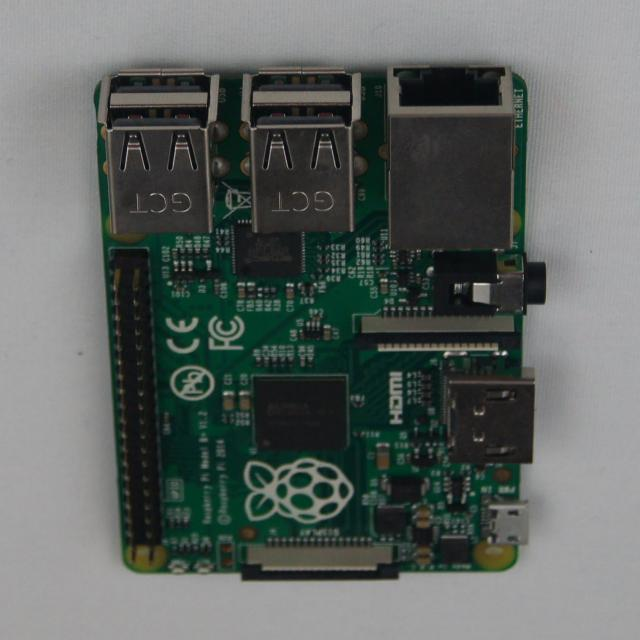Raspberry Pi 1 B-: (96, 67, 545, 579)
